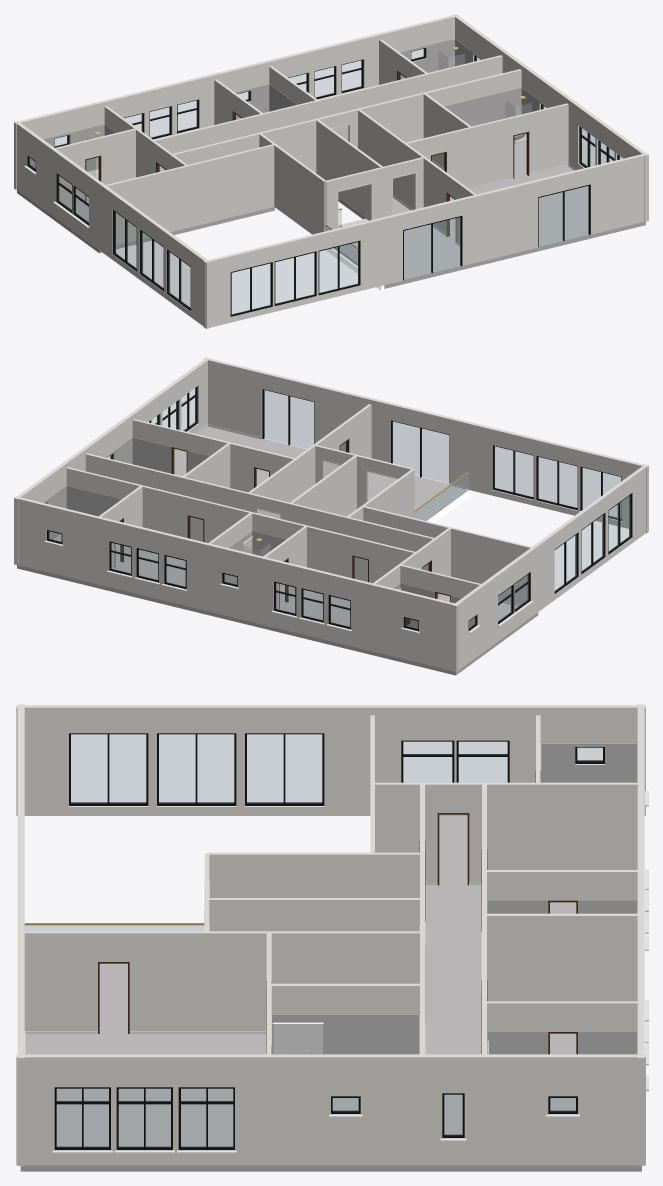
The model's file is int_est_S4_1.glb.
3 views of the same model, one above another, from view 1: azimuth 30°, elevation 25°; view 2: azimuth 150°, elevation 25°; view 3: azimuth 270°, elevation 25° (orthographic). The views are drawn at different scales.
Parts seen in each view (by area): view 1: WALL_0, ROOM, WALL_13, WALL_5, WALL_4, WALL_9, WALL_7, WALL_14, WALL_3, WALL_2, WALL_1, WALL_11 (+7 smaller); view 2: WALL_13, WALL_0, ROOM, WALL_5, WALL_14, WALL_7, WALL_3, WALL_4, WALL_2, WALL_9, WALL_8, WALL_12 (+7 smaller); view 3: WALL_3, WALL_5, ROOM, WALL_2, WALL_12, WALL_16, WALL_1, WALL_8, WALL_17, WALL_15, WALL_10, WALL_13 (+5 smaller).
Part boxes in pixels (bbox=[...]): WALL_0: bbox=[203, 153, 648, 328]; ROOM: bbox=[17, 39, 645, 290]; WALL_13: bbox=[14, 14, 458, 189]; WALL_5: bbox=[14, 121, 210, 328]; WALL_4: bbox=[89, 144, 274, 244]; WALL_9: bbox=[405, 103, 568, 188]; WALL_7: bbox=[173, 69, 521, 172]; WALL_14: bbox=[154, 55, 502, 171]; WALL_3: bbox=[452, 14, 648, 221]; WALL_2: bbox=[358, 109, 476, 243]; WALL_1: bbox=[259, 133, 326, 234]; WALL_11: bbox=[55, 128, 136, 205]; WALL_13: bbox=[14, 496, 459, 671]; WALL_0: bbox=[203, 357, 648, 533]; ROOM: bbox=[17, 424, 538, 675]; WALL_5: bbox=[452, 464, 648, 671]; WALL_14: bbox=[66, 467, 414, 583]; WALL_7: bbox=[85, 453, 434, 581]; WALL_3: bbox=[14, 357, 210, 565]; WALL_4: bbox=[363, 506, 554, 604]; WALL_2: bbox=[248, 404, 371, 518]; WALL_9: bbox=[132, 419, 295, 492]; WALL_8: bbox=[289, 455, 356, 516]; WALL_12: bbox=[373, 527, 451, 597]; WALL_3: bbox=[16, 1054, 645, 1165]; WALL_5: bbox=[16, 705, 645, 815]; ROOM: bbox=[20, 743, 641, 1171]; WALL_2: bbox=[24, 931, 419, 1033]; WALL_12: bbox=[372, 782, 637, 885]; WALL_16: bbox=[484, 913, 637, 1001]; WALL_1: bbox=[207, 852, 422, 897]; WALL_8: bbox=[207, 898, 422, 931]; WALL_17: bbox=[484, 1001, 637, 1054]; WALL_15: bbox=[484, 870, 637, 913]; WALL_10: bbox=[269, 983, 422, 1014]; WALL_13: bbox=[637, 704, 648, 1165].
Bounding box in the file's own units: 25.43 × 3.9 × 19.16.
Materials: 13 (1 with a texture image).
